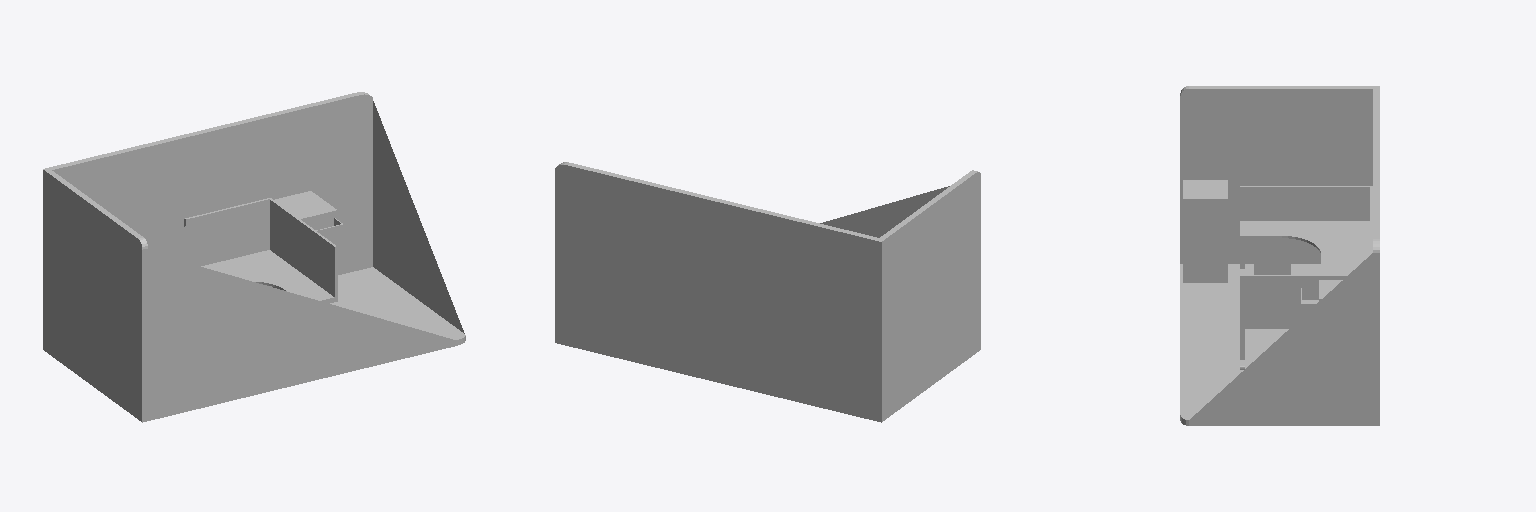
The model's file is TheStanleyParablev6.obj.
The picture shows the model from 3 angles: view 1: azimuth 30°, elevation 25°; view 2: azimuth 150°, elevation 25°; view 3: azimuth 270°, elevation 25°; orthographic projection.
Visible parts, largest first — view 1: Room, Table, Files2; view 2: Room; view 3: Room, Table, Files1, SmallFiles1.
Boxes of the visible parts, <box> form: Room: <box>43,92,465,422</box>; Table: <box>146,198,336,301</box>; Files2: <box>273,191,337,303</box>; Room: <box>555,162,980,422</box>; Room: <box>1180,86,1379,425</box>; Table: <box>1240,186,1372,328</box>; Files1: <box>1183,180,1227,282</box>; SmallFiles1: <box>1254,238,1290,274</box>.
Size of the model in its own units: 14.2 by 7.5 by 7.5.